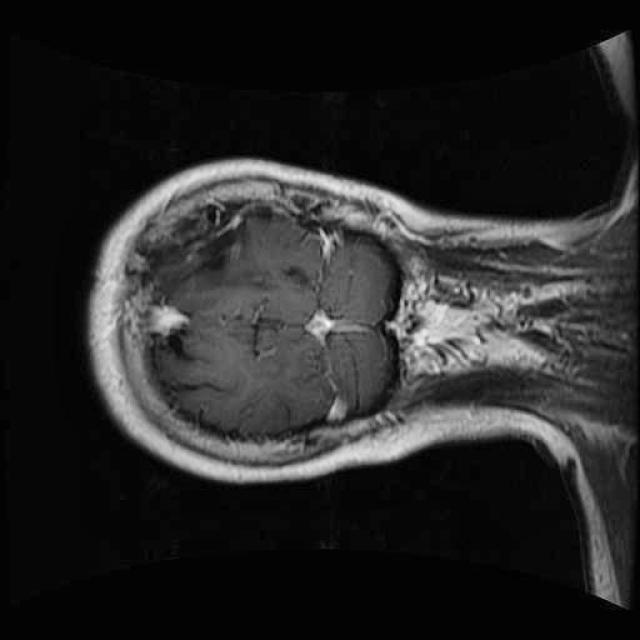Non-Tumor: (210, 289, 308, 374)
